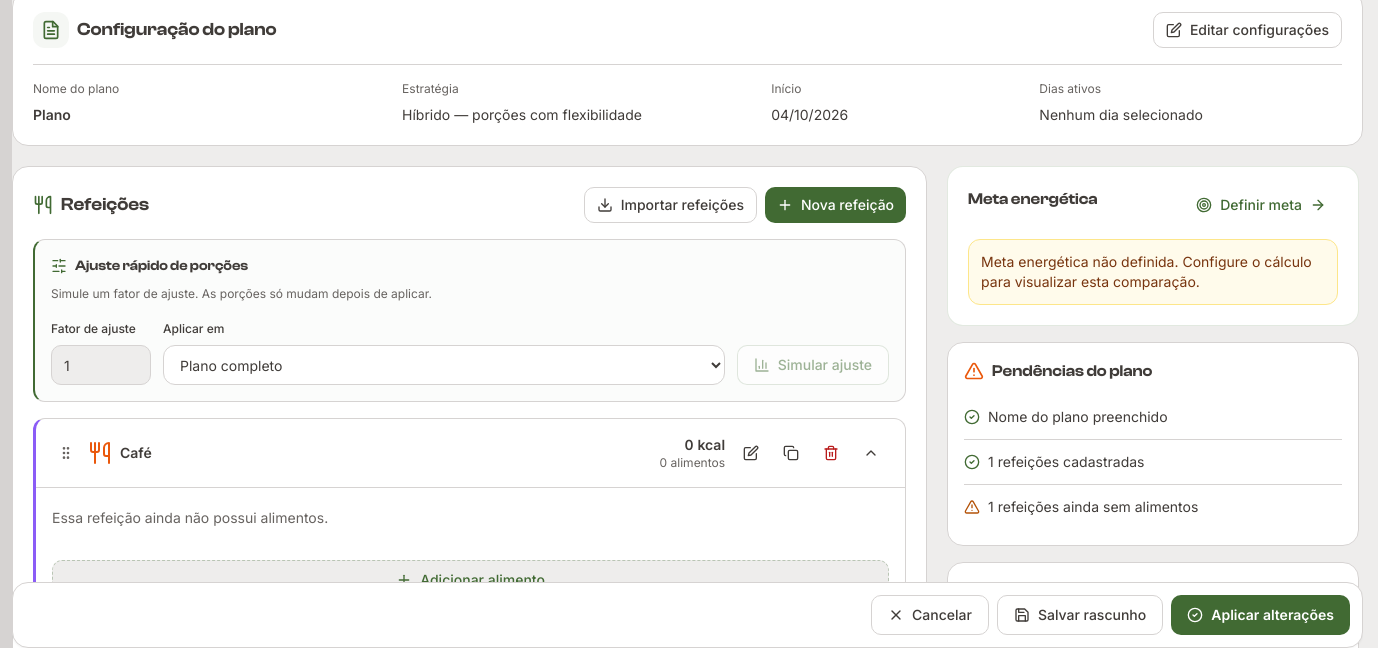
Test: makes validation visible even when the invalid settings section is collapsed
The image size is (1378, 648).
Click the button "Aplicar alterações" at (1261, 615), box [1171,595,1350,635]
(page scrolled)
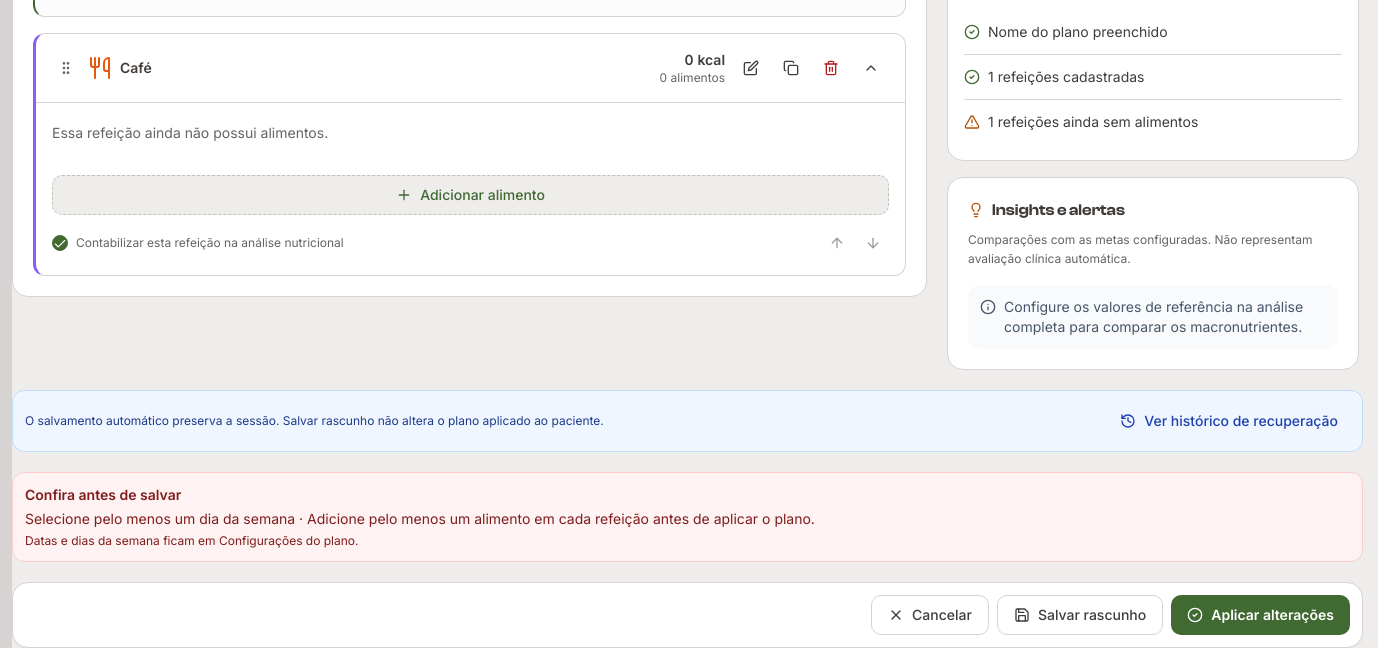
Expected: the message shows "Selecione pelo menos um dia da semana", [25,510,815,527]
